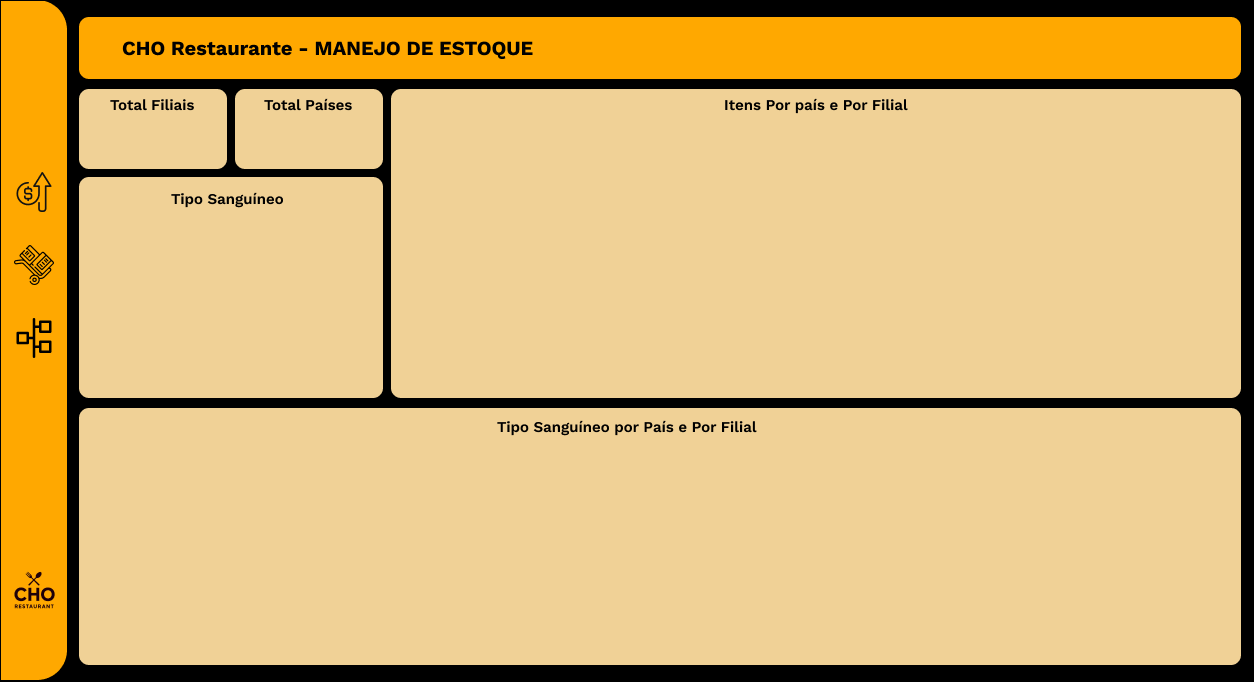

The page's visual inventory and layout, read from the dashboard file:
{"tool":"powerbi","page":{"name":"Manejo Estoque","canvas":[1280,720],"ordinal":1},"visuals":[{"type":"actionButton","box":[0,166.3,69.8,76.7],"z":0},{"type":"actionButton","box":[0,322.1,69.8,76.7],"z":1000},{"type":"card","fields":{"Values":["Count(filialdimension.filialkey)"]},"box":[97.7,110.5,131.4,76.7],"z":2000},{"type":"card","fields":{"Values":["Count(filialdimension.paisnome)"]},"box":[254.7,110.5,131.4,76.7],"z":3000},{"type":"slicer","fields":{"Values":["calendardimension. datacompleta "]},"box":[586,22.1,247.7,67.4],"z":4000},{"type":"slicer","fields":{"Values":["filialdimension.paisnome","filialdimension.filialid"]},"box":[847.7,17.4,170.9,72.1],"z":5000},{"type":"slicer","fields":{"Values":["clientedimension.clientetiposang"]},"box":[1038.4,20.9,170.9,72.1],"z":6000},{"type":"hundredPercentStackedColumnChart","fields":{"Series":["clientedimension.clientetiposang"],"Y":["Sum(receitafato.itemprecovenda)"],"Category":["filialdimension.paisnome","filialdimension.filialid"]},"box":[105.8,446.5,1150,246.5],"z":7000},{"type":"columnChart","fields":{"Category":["filialdimension.paisnome","filialdimension.filialid","itemdimension.itemnome"],"Y":["CountNonNull(itemdimension.itemnome)"]},"box":[411.6,140.7,822.1,269.8],"z":8000},{"type":"pieChart","fields":{"Y":["CountNonNull(receitafato.filialkey)"],"Category":["itemdimension.tipsang","filialdimension.filialid"]},"box":[73.3,216.3,338.4,207],"z":9000}]}

Visuals, with their boxes on the page's 1280x720 design canvas (x1, y1, x2, y2). These are canvas units, not pixel positions in the 1254x682 screenshot, which may show the page scaled, cropped or inside an application window:
actionButton: box(0, 166, 70, 243)
actionButton: box(0, 322, 70, 399)
card - Count(filialdimension.filialkey): box(98, 110, 229, 187)
card - Count(filialdimension.paisnome): box(255, 110, 386, 187)
slicer - calendardimension. datacompleta : box(586, 22, 834, 90)
slicer - filialdimension.paisnome x filialdimension.filialid: box(848, 17, 1019, 90)
slicer - clientedimension.clientetiposang: box(1038, 21, 1209, 93)
hundredPercentStackedColumnChart - clientedimension.clientetiposang x Sum(receitafato.itemprecovenda): box(106, 446, 1256, 693)
columnChart - filialdimension.paisnome x filialdimension.filialid: box(412, 141, 1234, 410)
pieChart - CountNonNull(receitafato.filialkey) x itemdimension.tipsang: box(73, 216, 412, 423)
